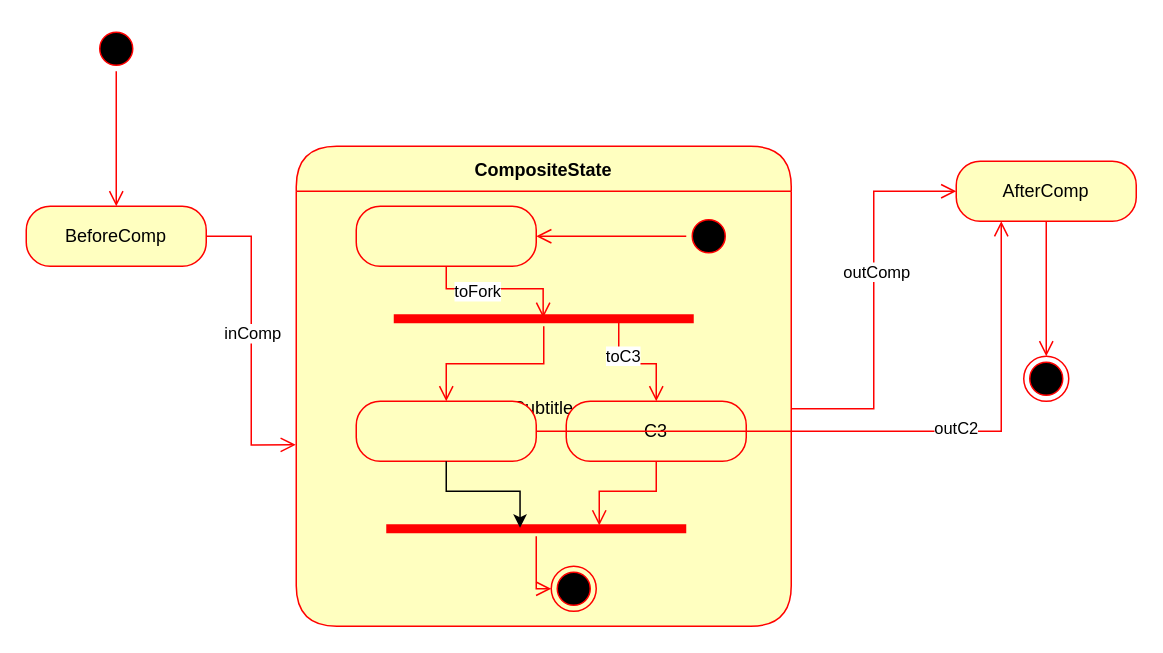
The diagram is 1163 pixels wide and 653 high, and some of its shapes have lost their labels. Each missing label, with the centre of its shape:
C1: point 445,235
C2: point 445,430
